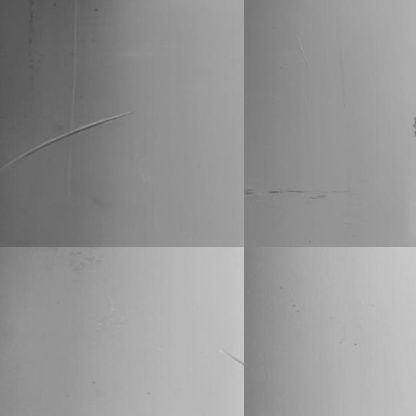sunshang: (6, 111, 129, 179)
